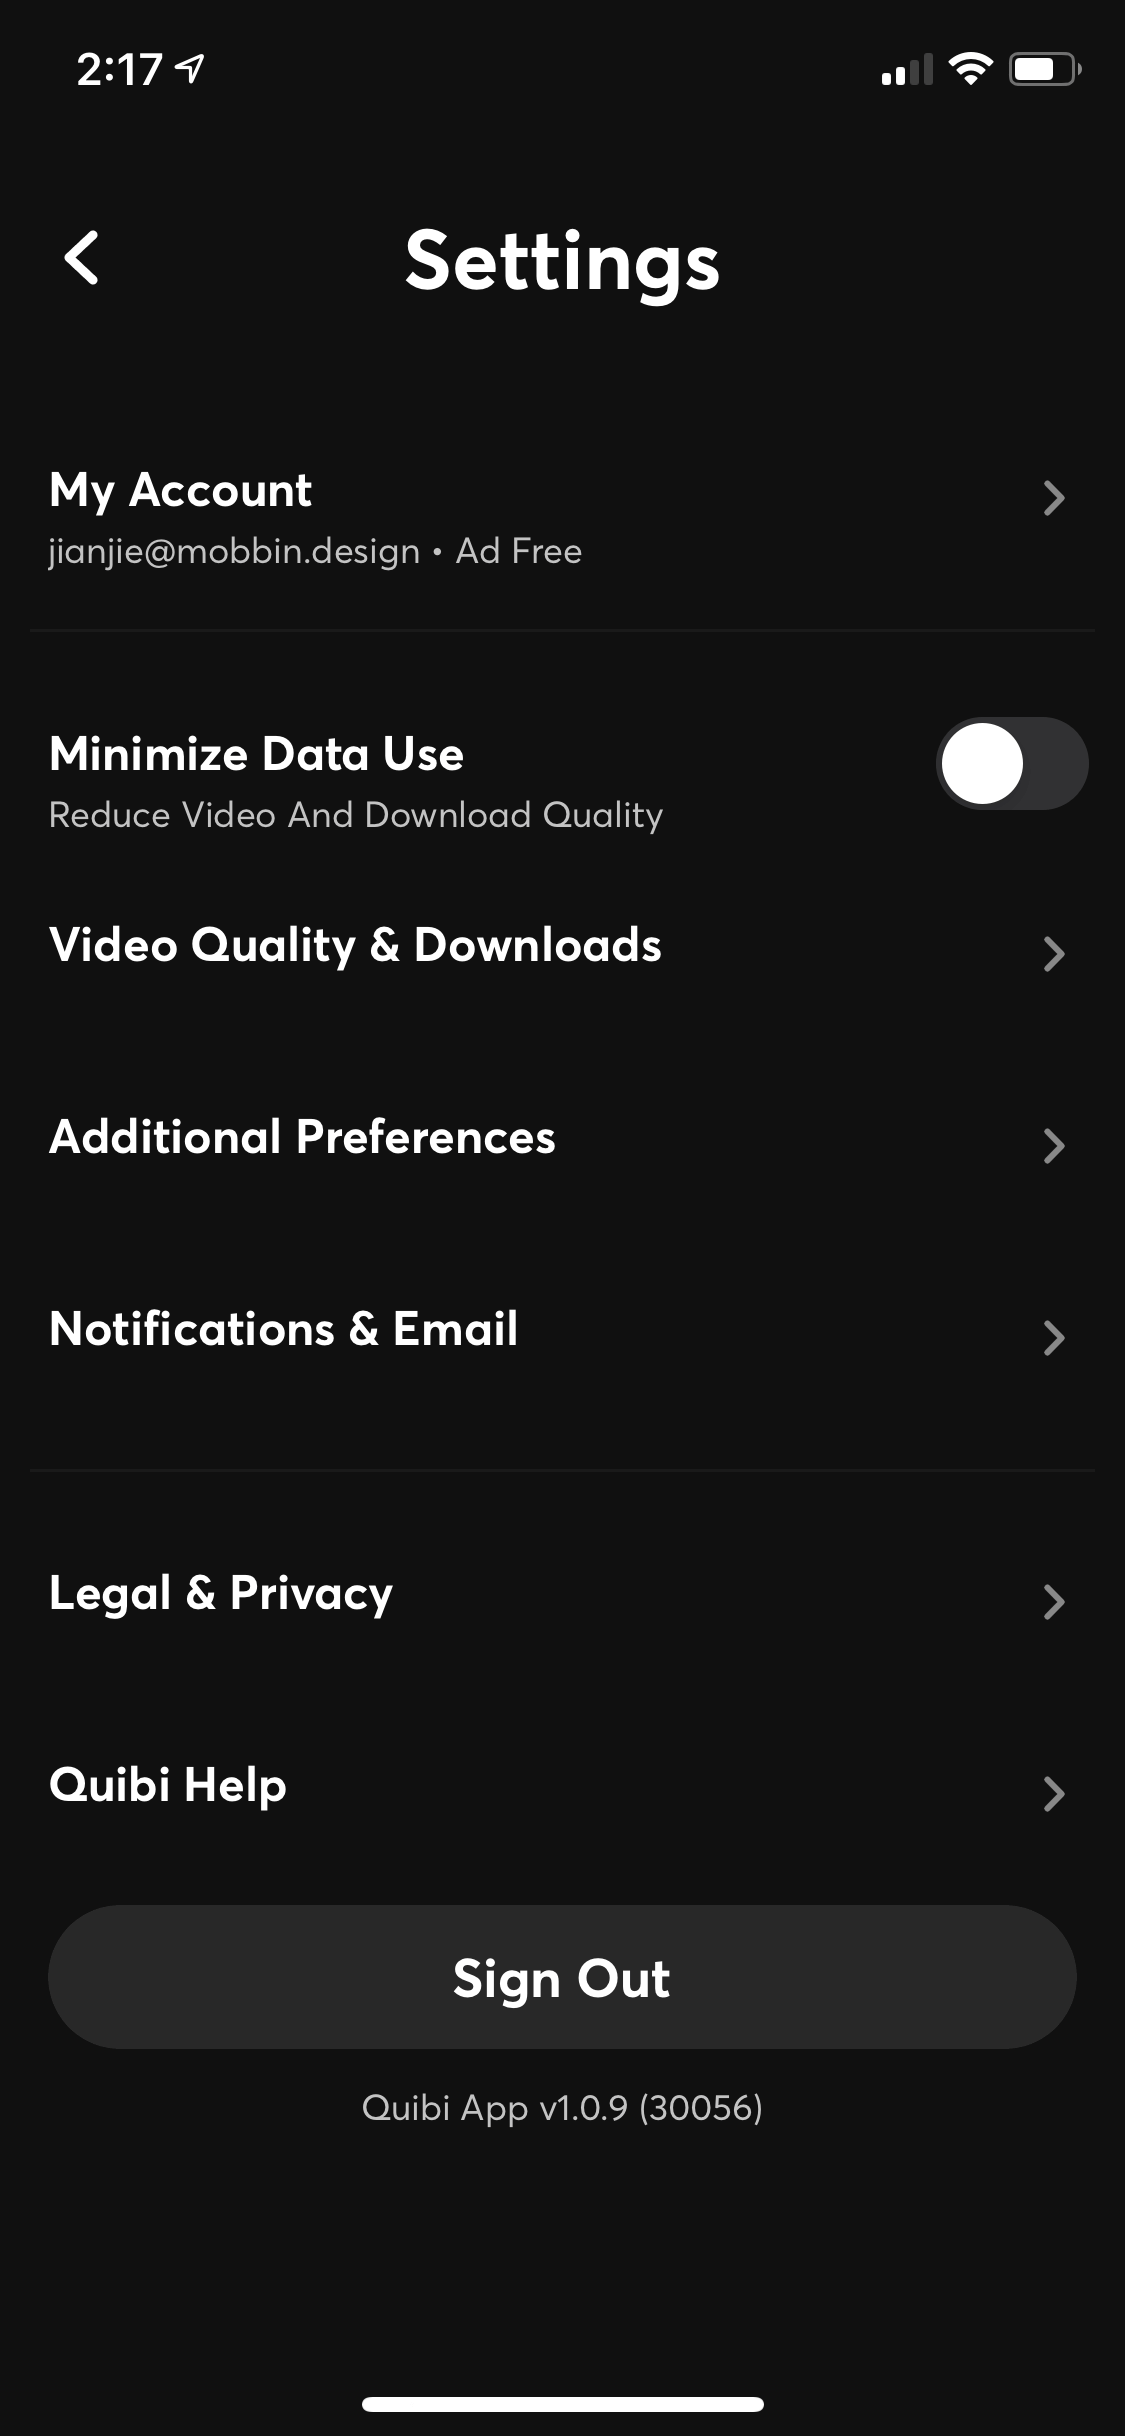Buttons: (37, 1892, 1094, 2065), (30, 183, 148, 311)
Switches: (931, 704, 1102, 816)
